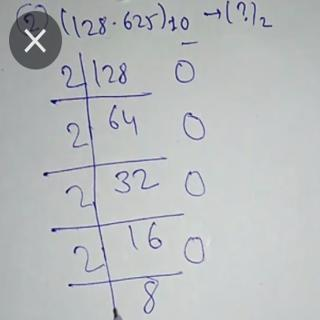.: (111, 15, 119, 28)
0: (181, 164, 207, 196), (172, 57, 196, 84), (184, 113, 207, 140), (184, 236, 205, 265), (182, 14, 191, 28)
1: (91, 57, 103, 87), (69, 11, 81, 40), (129, 222, 138, 249), (168, 14, 178, 32)
2: (74, 244, 105, 271), (133, 167, 161, 191), (66, 184, 93, 208), (61, 65, 89, 88), (66, 121, 87, 150), (82, 17, 98, 38), (102, 64, 118, 85), (259, 15, 274, 28), (134, 12, 145, 29)
3: (114, 170, 132, 192)
4: (119, 108, 140, 135)
5: (143, 12, 160, 31)
6: (147, 222, 165, 249), (107, 103, 122, 130), (122, 10, 132, 29)
8: (143, 278, 158, 313), (119, 62, 128, 86), (98, 15, 109, 33)
